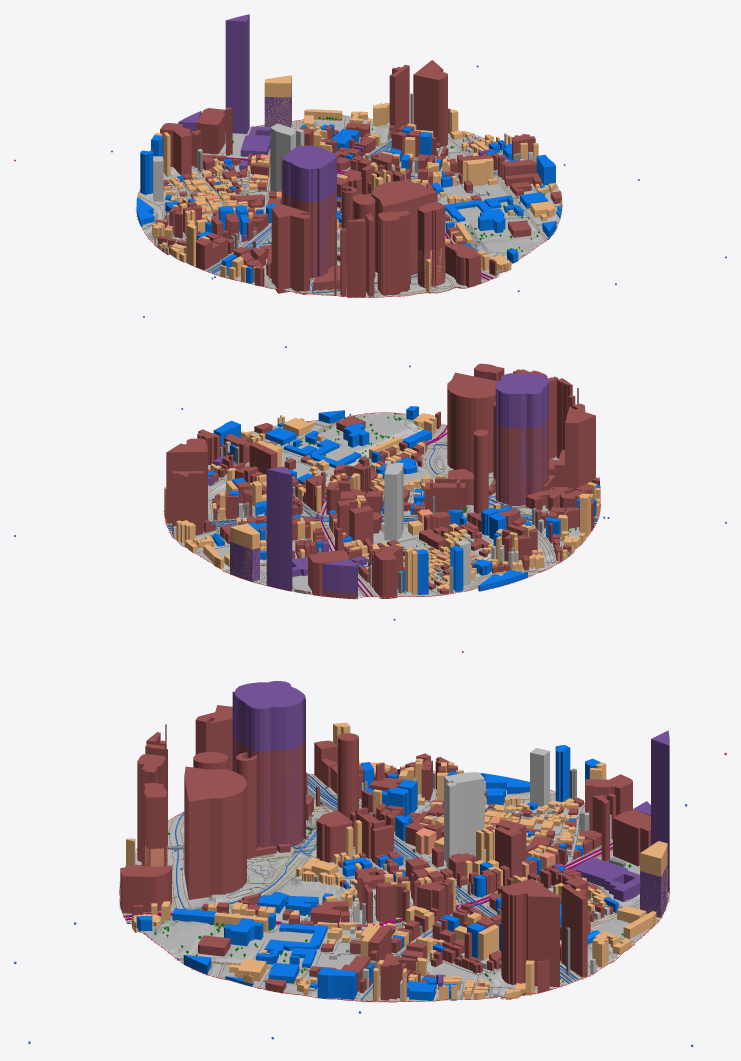
File: Roppongi-city-model.glb
3 renders of one model, top to bottom at view 1: azimuth 30°, elevation 25°; view 2: azimuth 150°, elevation 25°; view 3: azimuth 270°, elevation 25°, orthographic. The views are drawn at different scales.
Visible parts, largest first — view 1: BUILDINGS_COMMERCIAL, BUILDINGS_RESIDENTIAL, TERRAIN, BUILDINGS_OFFICE, BUILDINGS_PUBLIC, BUILDINGS_OTHER, BUILDINGS_MIXED, BUILDINGS_UTILITY, PATHS; view 2: BUILDINGS_COMMERCIAL, BUILDINGS_OFFICE, BUILDINGS_RESIDENTIAL, TERRAIN, BUILDINGS_PUBLIC, BUILDINGS_OTHER, BUILDINGS_UTILITY, PATHS, A_TRANSIT_2F80ED, SITE, ROADS_MINOR; view 3: BUILDINGS_COMMERCIAL, BUILDINGS_RESIDENTIAL, TERRAIN, BUILDINGS_PUBLIC, BUILDINGS_OFFICE, BUILDINGS_OTHER, BUILDINGS_UTILITY, PATHS, A_TRANSIT_2F80ED, BUILDINGS_MIXED, ROADS_MINOR, SITE.
Boxes of the visible parts, x1,y1,x2,y2 form: BUILDINGS_COMMERCIAL: [155, 60, 561, 297]; BUILDINGS_RESIDENTIAL: [152, 75, 561, 293]; TERRAIN: [135, 115, 563, 298]; BUILDINGS_OFFICE: [178, 14, 509, 277]; BUILDINGS_PUBLIC: [136, 124, 561, 283]; BUILDINGS_OTHER: [153, 123, 546, 233]; BUILDINGS_MIXED: [166, 154, 445, 287]; BUILDINGS_UTILITY: [162, 93, 520, 292]; PATHS: [146, 120, 558, 296]; BUILDINGS_COMMERCIAL: [164, 363, 599, 599]; BUILDINGS_OFFICE: [208, 373, 548, 598]; BUILDINGS_RESIDENTIAL: [164, 413, 600, 595]; TERRAIN: [163, 412, 601, 599]; BUILDINGS_PUBLIC: [208, 406, 600, 594]; BUILDINGS_OTHER: [173, 441, 543, 586]; BUILDINGS_UTILITY: [212, 446, 569, 594]; PATHS: [166, 416, 594, 596]; A_TRANSIT_2F80ED: [167, 444, 597, 530]; SITE: [164, 412, 600, 599]; ROADS_MINOR: [165, 413, 581, 596]; BUILDINGS_COMMERCIAL: [120, 705, 650, 1000]; BUILDINGS_RESIDENTIAL: [126, 722, 667, 1001]; TERRAIN: [119, 774, 669, 1002]; BUILDINGS_PUBLIC: [136, 745, 618, 1000]; BUILDINGS_OFFICE: [232, 681, 669, 989]; BUILDINGS_OTHER: [281, 748, 611, 1001]; BUILDINGS_UTILITY: [167, 768, 625, 992]; PATHS: [125, 775, 658, 1001]; A_TRANSIT_2F80ED: [175, 773, 578, 1000]; BUILDINGS_MIXED: [143, 816, 555, 878]; ROADS_MINOR: [143, 776, 668, 998]; SITE: [119, 774, 669, 1002].
Bounding box in the file's own units: 1175 × 261 × 1089.
